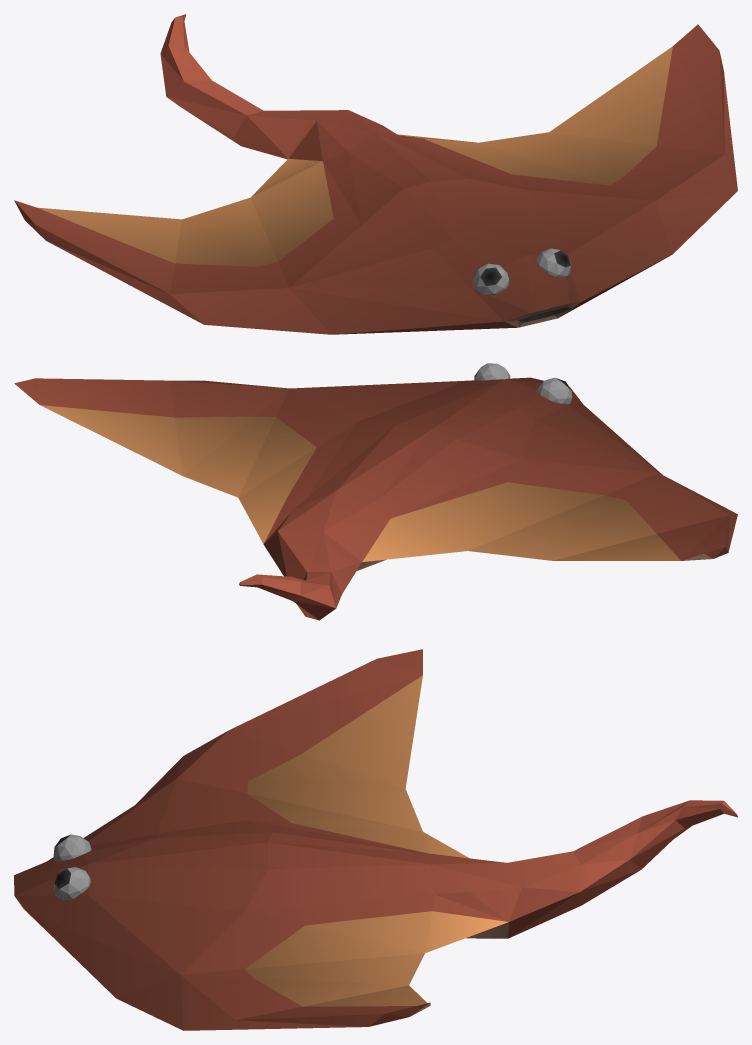
Rendered from ray_variant.glb.
3 views of the same model, one above another, from view 1: azimuth 30°, elevation 25°; view 2: azimuth 150°, elevation 25°; view 3: azimuth 270°, elevation 25° (orthographic). The views are drawn at different scales.
Visible parts, largest first — view 1: ray_variant_merged; view 2: ray_variant_merged; view 3: ray_variant_merged.
Part boxes in pixels (x1,y1,x2,y2): ray_variant_merged: (14,14,737,334); ray_variant_merged: (14,363,737,620); ray_variant_merged: (14,649,737,1030).
Size of the model in its own units: 22.24 by 3.16 by 18.96.
3 materials, 3 textured.
